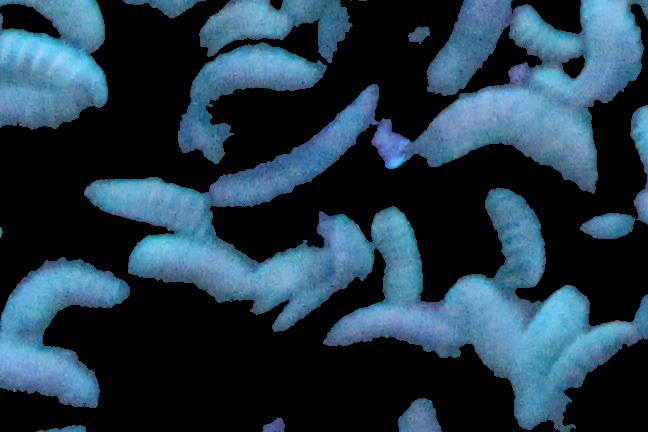larvae: (198, 86, 383, 210), (413, 93, 602, 186), (426, 1, 551, 93), (4, 262, 129, 346), (192, 46, 322, 121), (323, 299, 491, 352), (90, 175, 212, 246), (516, 291, 593, 398), (229, 253, 319, 343), (126, 235, 248, 300), (477, 186, 545, 296), (290, 1, 365, 93), (452, 273, 518, 377), (1, 36, 107, 100), (572, 5, 642, 100), (558, 313, 640, 394), (1, 343, 98, 406), (1, 89, 86, 159), (369, 210, 429, 300), (319, 225, 369, 325), (1, 1, 106, 47), (187, 5, 291, 44), (511, 8, 584, 59), (577, 206, 636, 242)
